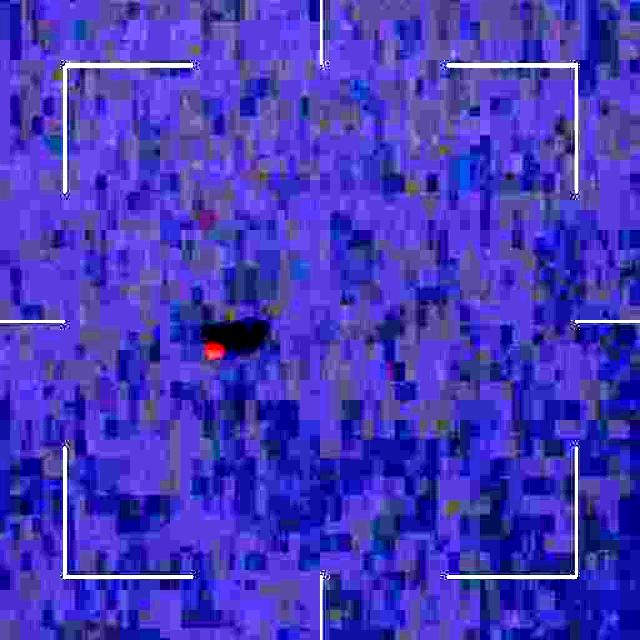bird: (212, 325, 245, 380)
